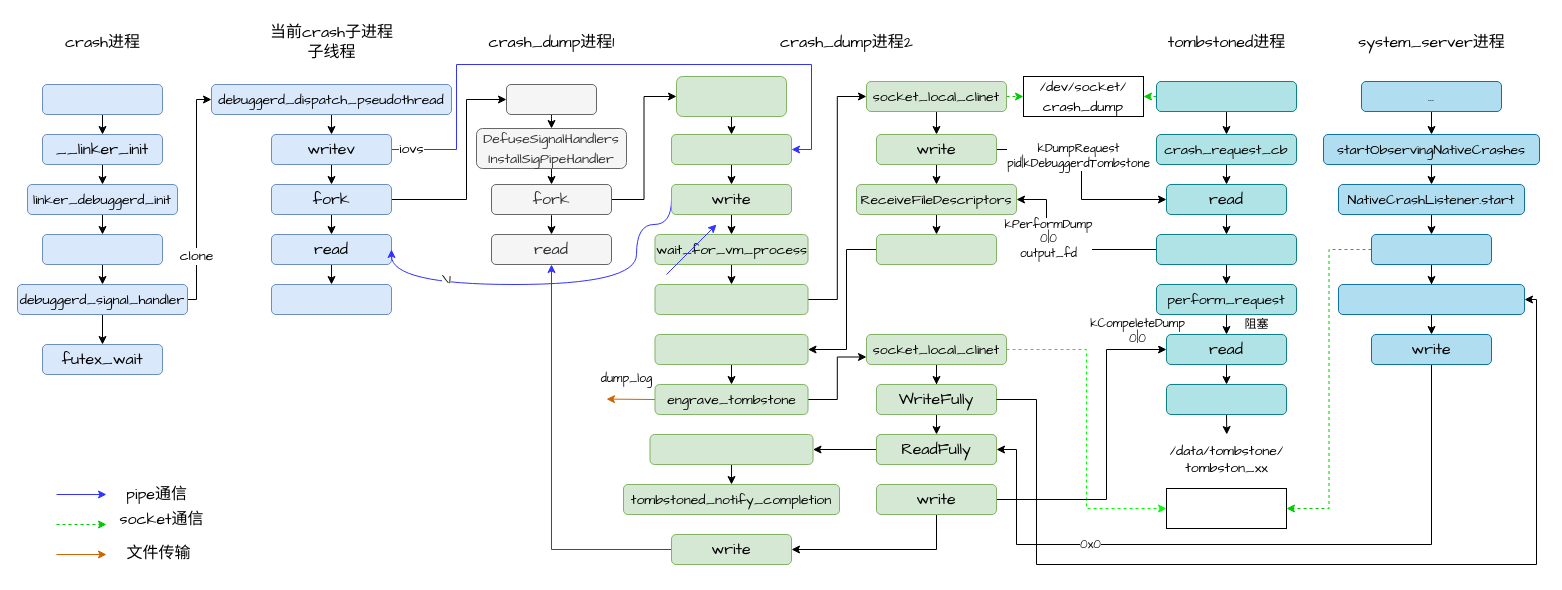
Some shapes in this 1562 by 590 pixel diagram are drawn without their labels. Each missing label, with the centre of its shape:
"/data/system/ nodebugsocket" goes at [1226,508].
"activity_manager_notify" goes at [731,449].
"begin.s" goes at [102,99].
"consumeNativeCrashData" goes at [1431,299].
"crash_accept_cb" goes at [1226,96].
"debuggerd_init" goes at [102,249].
"Initialize ParseArgs" goes at [731,96].
"linkat" goes at [1226,399].
"main" goes at [551,99].
"output_fd" goes at [936,249].
"ReadCrashInfo" goes at [731,149].
"SendFileDescriptors" goes at [1226,249].
"socket" goes at [1431,249].
"tombstoned_connect" goes at [731,299].
"unwinder.Init" goes at [731,349].
"waitpid" goes at [331,299].
